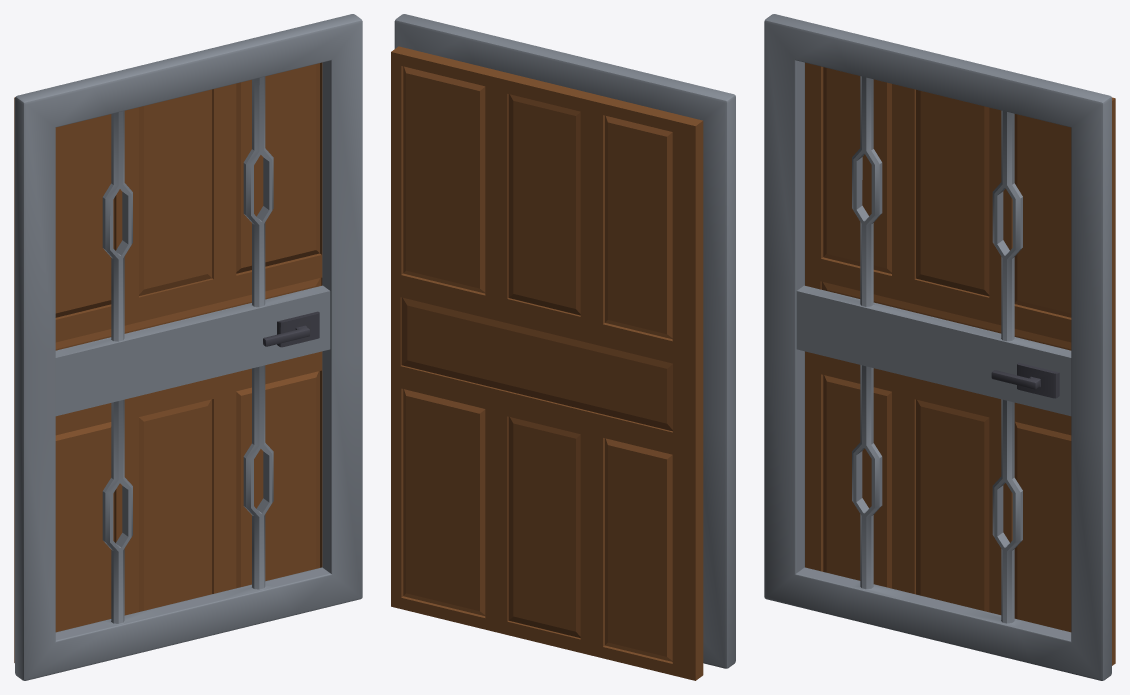
File: MP_Neighbour_Door_Opening.fbx
3 views of the same model, side by side, from view 1: azimuth 30°, elevation 25°; view 2: azimuth 150°, elevation 25°; view 3: azimuth 330°, elevation 25° (orthographic).
Visible parts, largest first — view 1: Door, Gate; view 2: Door, Gate; view 3: Door, Gate.
Part boxes in pixels (x1=…): Door: x1=14, y1=62, x2=322, y2=662; Gate: x1=15, y1=14, x2=362, y2=680; Door: x1=391, y1=46, x2=703, y2=680; Gate: x1=394, y1=14, x2=735, y2=668; Door: x1=805, y1=62, x2=1115, y2=665; Gate: x1=764, y1=14, x2=1111, y2=680.
Size of the model in its own units: 116 by 190 by 19.64.
